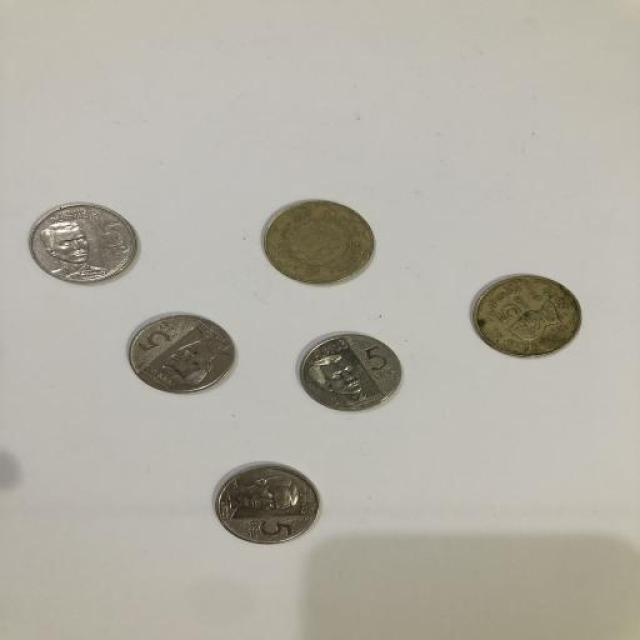5 peso: (205, 455, 328, 550), (26, 196, 142, 292), (120, 308, 238, 398), (299, 328, 406, 417)
5 peso-old: (466, 268, 586, 367), (258, 191, 378, 288)
